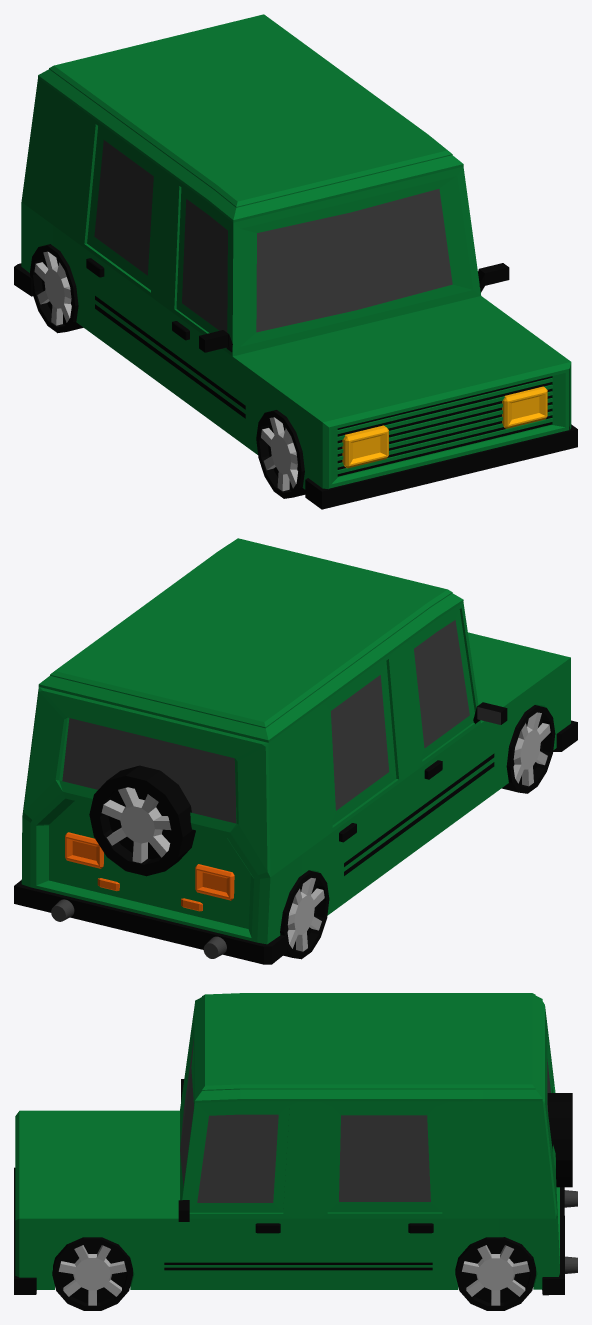
The model's file is bl_wheel.glb.
3 views of the same model, one above another, from view 1: azimuth 30°, elevation 25°; view 2: azimuth 150°, elevation 25°; view 3: azimuth 270°, elevation 25° (orthographic). The views are drawn at different scales.
Parts seen in each view (by area): view 1: BL WHEEL.001_BODY.001_0; view 2: BL WHEEL.001_BODY.001_0; view 3: BL WHEEL.001_BODY.001_0.
Part boxes in pixels (<box>): BL WHEEL.001_BODY.001_0: <box>14,14,577,509</box>; BL WHEEL.001_BODY.001_0: <box>14,538,577,964</box>; BL WHEEL.001_BODY.001_0: <box>14,993,577,1310</box>.
Size of the model in its own units: 0.3877 by 0.2979 by 0.7021.
1 material, 1 textured.
